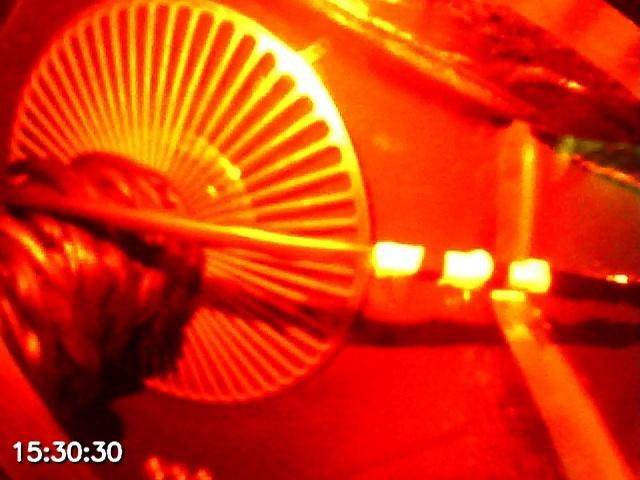white-dots: (370, 240, 552, 293)
